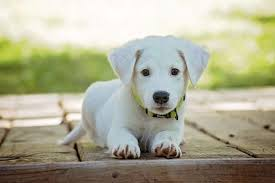dog: (108, 32, 214, 123)
